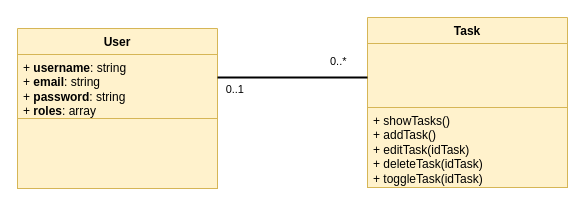
This 585x209 diagram has some shape labels left out. Each missing label, with the box of its shape:
+ login() + showUsers() + addUser() + editUser(idUser): (16, 118, 218, 188)
+ title : string + content : string + createdAt : string + isDone : bool: (366, 42, 568, 108)
